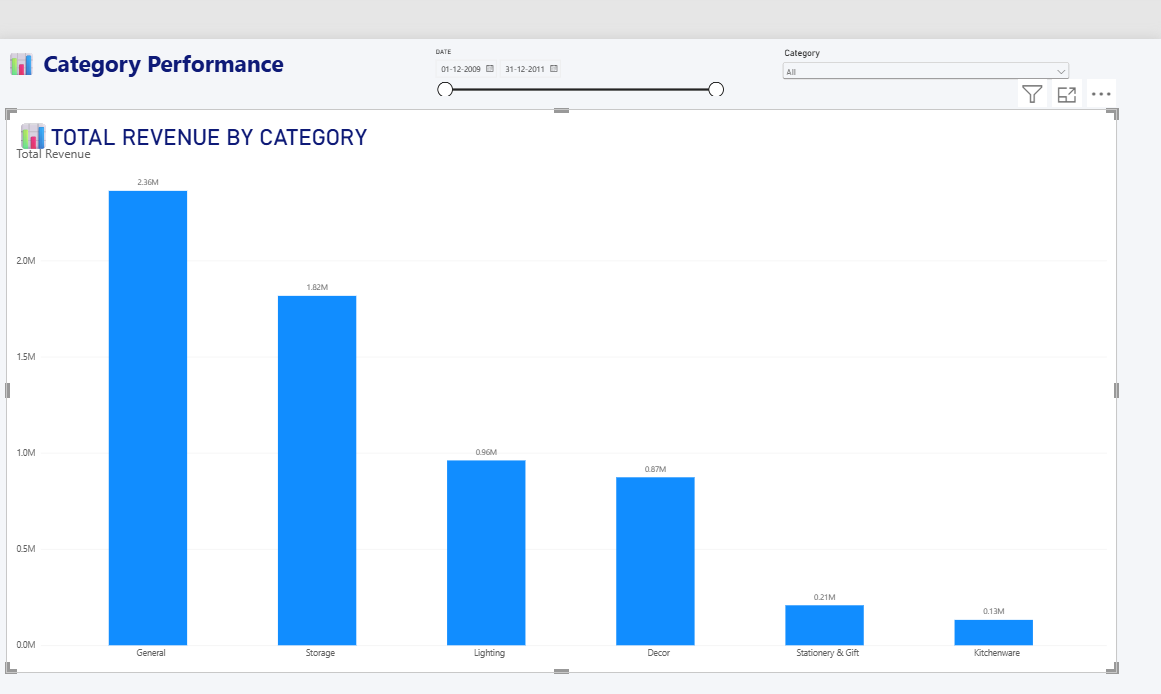

The dashboard page shown, as its layout file describes it:
{"tool":"powerbi","page":{"name":"Category Performance","canvas":[1920,1080],"ordinal":3},"visuals":[{"type":"columnChart","title":"📊TOTAL REVENUE BY CATEGORY","fields":{"Category":["Sku_master.Category"],"Y":["_Measures.Total Revenue"]},"box":[16.5,115.3,1829.9,928.3],"z":0},{"type":"slicer","fields":{"Values":["calendar.date"]},"box":[716.3,14.4,485.8,80.3],"z":3000},{"type":"slicer","fields":{"Values":["Sku_master.Category"]},"box":[1290.6,14.4,481.6,88.5],"z":4000},{"type":"textbox","box":[16.5,14.4,572.2,80.3],"z":5000}]}

Visuals, with their boxes on the page's 1920x1080 design canvas (x1, y1, x2, y2). These are canvas units, not pixel positions in the 1161x694 screenshot, which may show the page scaled, cropped or inside an application window:
"📊TOTAL REVENUE BY CATEGORY" columnChart: 16 115 1846 1044
slicer - calendar.date: 716 14 1202 95
slicer - Sku_master.Category: 1291 14 1772 103
textbox: 16 14 589 95
